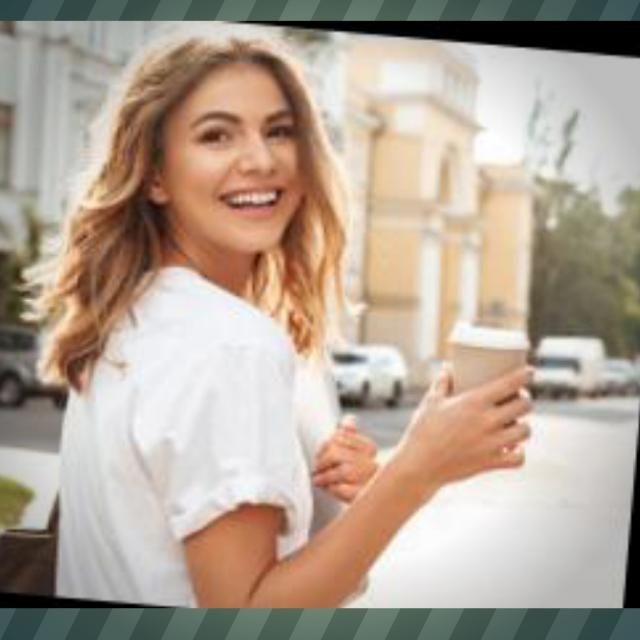Happy: (111, 81, 353, 324)
